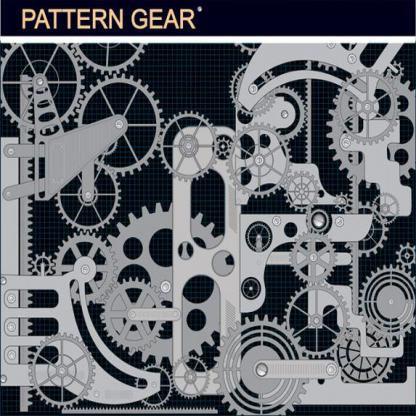FOD: (157, 108, 218, 181)
